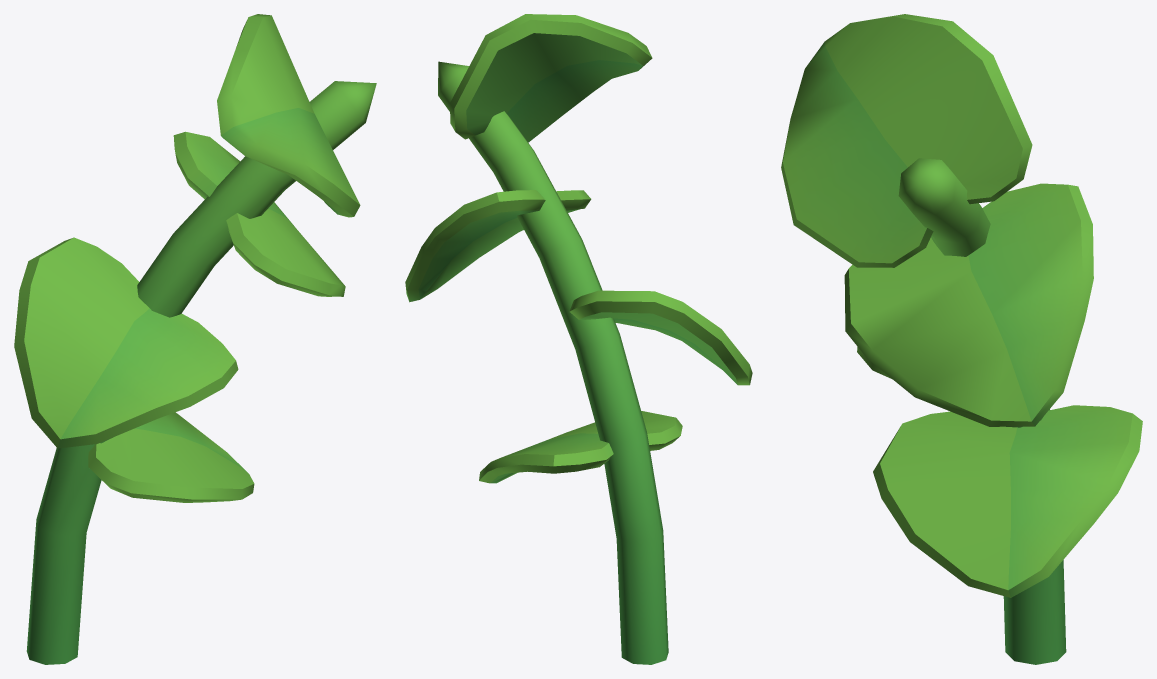
File: Pothos Vine Medium D.glb
3 views of the same model, side by side, from view 1: azimuth 30°, elevation 25°; view 2: azimuth 150°, elevation 25°; view 3: azimuth 270°, elevation 25° (orthographic). The views are drawn at different scales.
Parts seen in each view (by area): view 1: pothos_vine_medium_D; view 2: pothos_vine_medium_D; view 3: pothos_vine_medium_D.
Boxes of the visible parts, <box> form: pothos_vine_medium_D: <box>14,14,376,664</box>; pothos_vine_medium_D: <box>405,14,752,664</box>; pothos_vine_medium_D: <box>781,14,1142,664</box>.
Size of the model in its own units: 0.6034 by 1.06 by 0.4804.
1 material, 1 textured.
